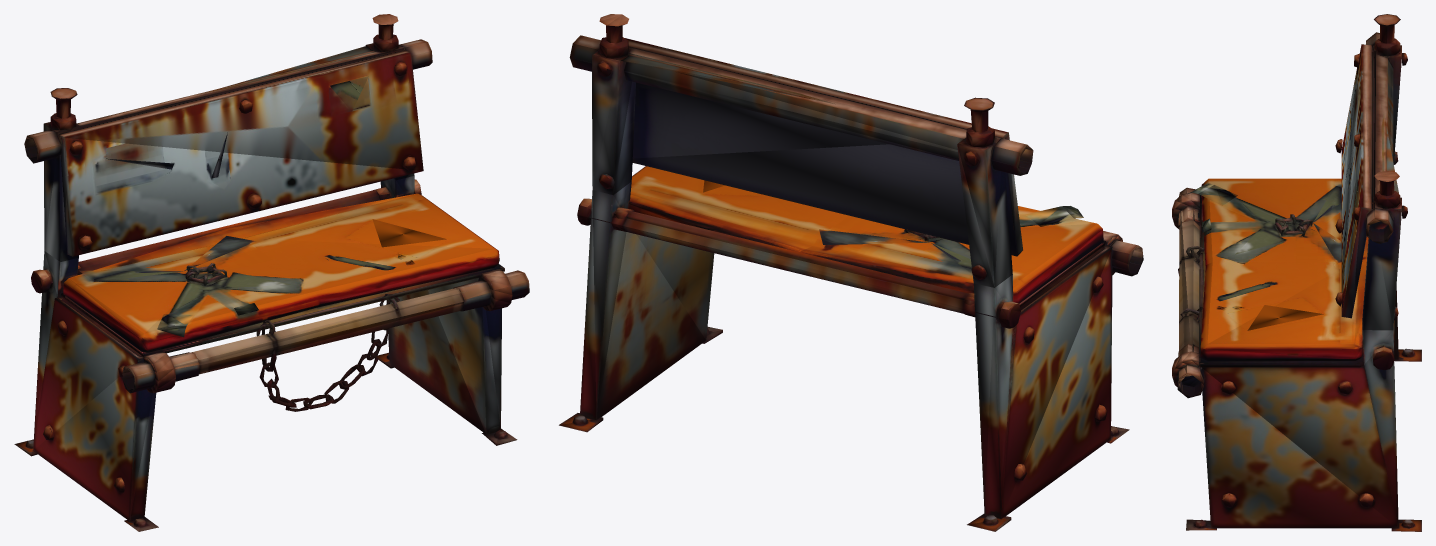
File: seat_bench.glb
The picture shows the model from 3 angles, left to right: view 1: azimuth 30°, elevation 25°; view 2: azimuth 150°, elevation 25°; view 3: azimuth 270°, elevation 25°; orthographic projection. The views are drawn at different scales.
Visible parts, largest first — view 1: tripo_node_a166d61b; view 2: tripo_node_a166d61b; view 3: tripo_node_a166d61b.
Boxes of the visible parts, x1,y1,x2,y2 form: tripo_node_a166d61b: (14,14,529,531); tripo_node_a166d61b: (559,14,1143,531); tripo_node_a166d61b: (1172,14,1421,531).
Size of the model in its own units: 0.998 by 0.8639 by 0.5645.
1 material, 1 textured.
